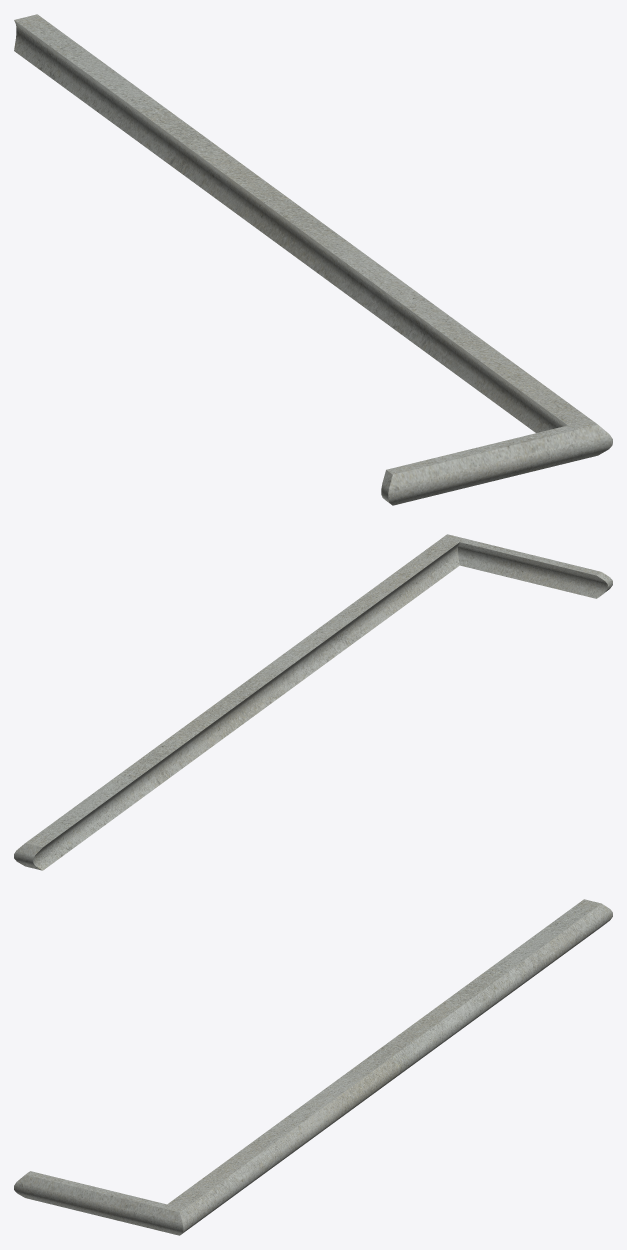
File: TopBottomConnection_Mesh.fbx
The picture shows the model from 3 angles, top to bottom: view 1: azimuth 30°, elevation 25°; view 2: azimuth 150°, elevation 25°; view 3: azimuth 330°, elevation 25°; orthographic projection. The views are drawn at different scales.
Parts seen in each view (by area): view 1: BottomTopConnection; view 2: BottomTopConnection; view 3: BottomTopConnection.
Part boxes in pixels (bbox=[...]): BottomTopConnection: bbox=[14, 14, 612, 505]; BottomTopConnection: bbox=[14, 534, 612, 870]; BottomTopConnection: bbox=[14, 899, 612, 1235].
Size of the model in its own units: 519 by 68.47 by 2284.
1 material, 1 textured.
